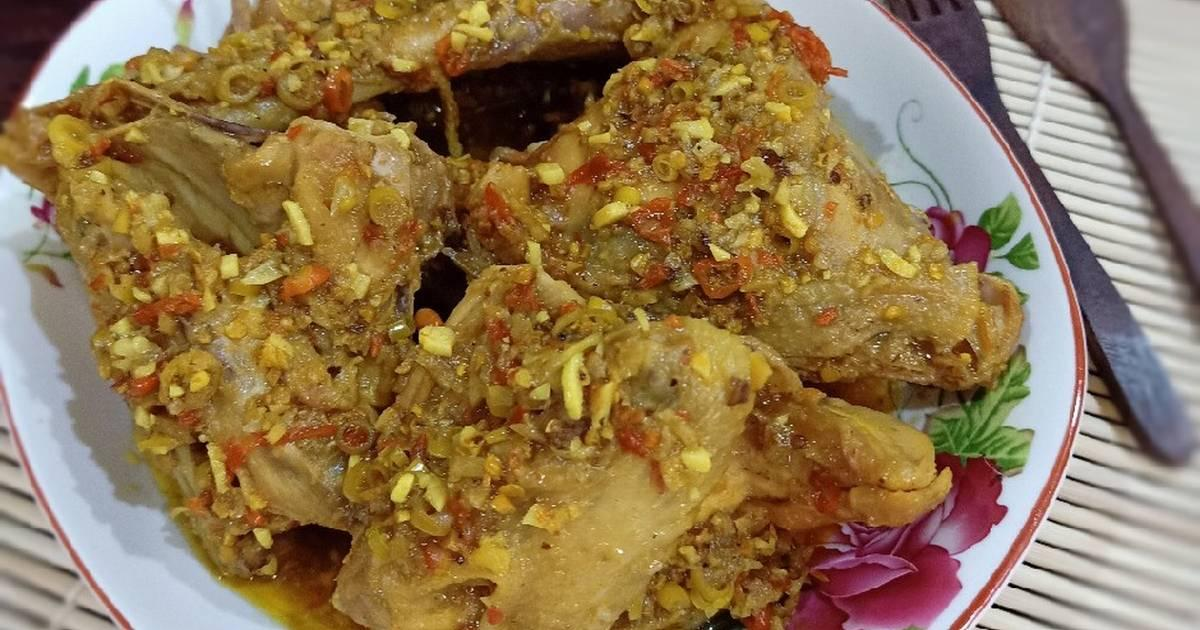ayam_betutu: (1, 1, 1025, 630)
